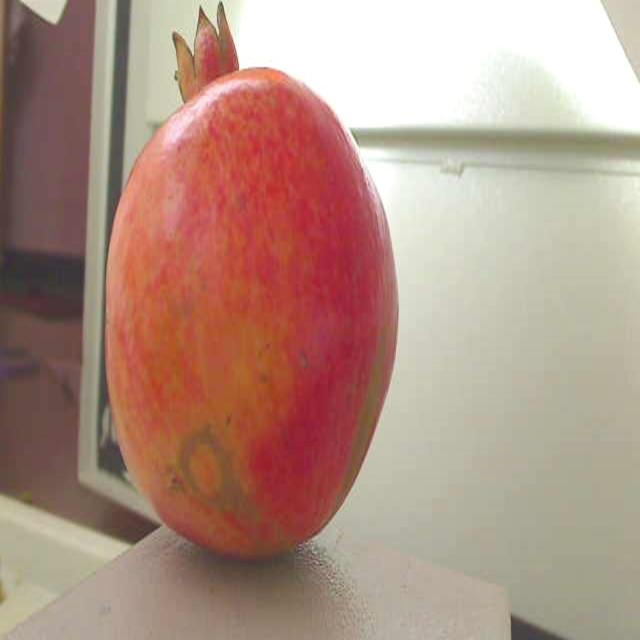pomegranate: (91, 0, 407, 594)
